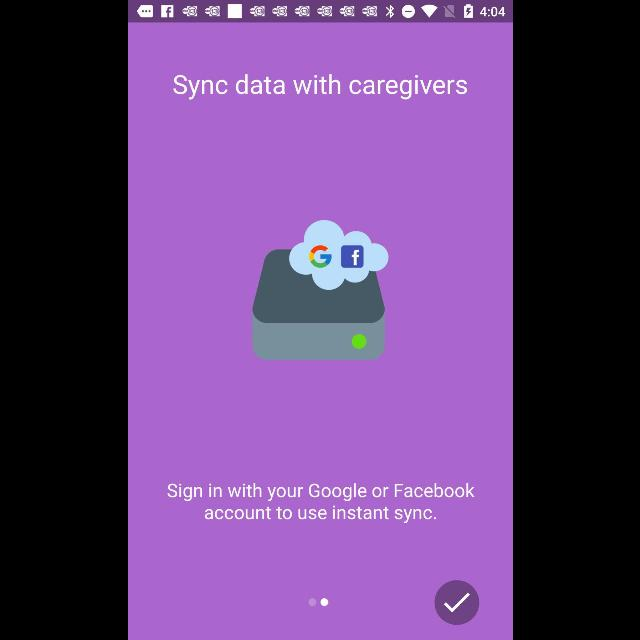icon: (433, 580, 479, 626)
image: (252, 220, 388, 360)
pageindicator: (308, 598, 328, 606)
text: (166, 482, 474, 524), (173, 74, 467, 100)
uppertaskbar: (128, 1, 512, 23)
